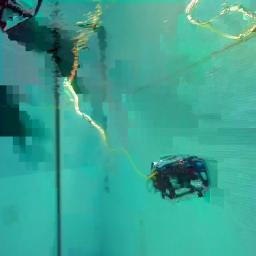Side: (150, 154, 210, 200), (0, 0, 44, 33)
